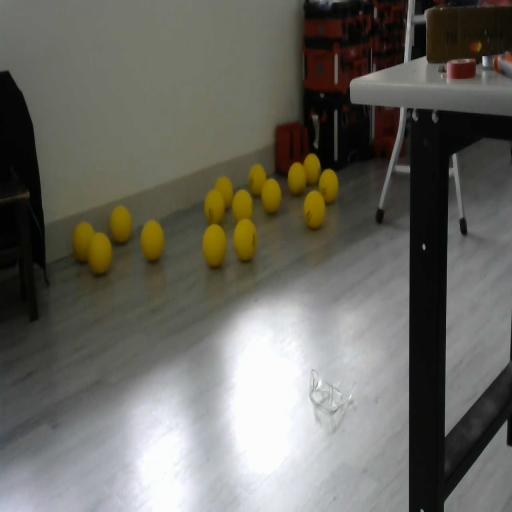FUEL: (87, 230, 113, 276), (202, 222, 228, 267), (232, 217, 258, 262), (140, 218, 166, 262), (302, 189, 326, 230), (110, 205, 132, 244), (318, 167, 339, 204), (214, 174, 234, 211), (261, 179, 282, 214), (232, 188, 253, 222), (287, 160, 306, 196), (302, 151, 322, 185), (248, 163, 267, 196)
